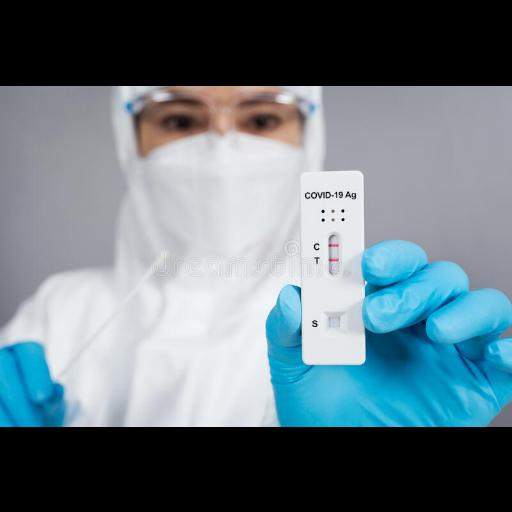Pos: (300, 170, 366, 362)
